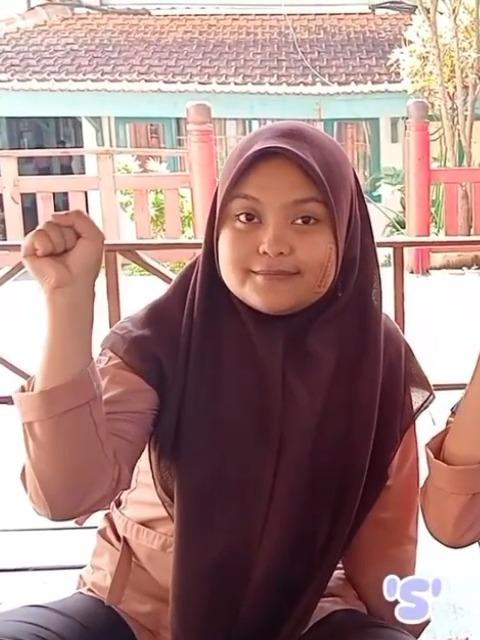S: (16, 205, 116, 292)
